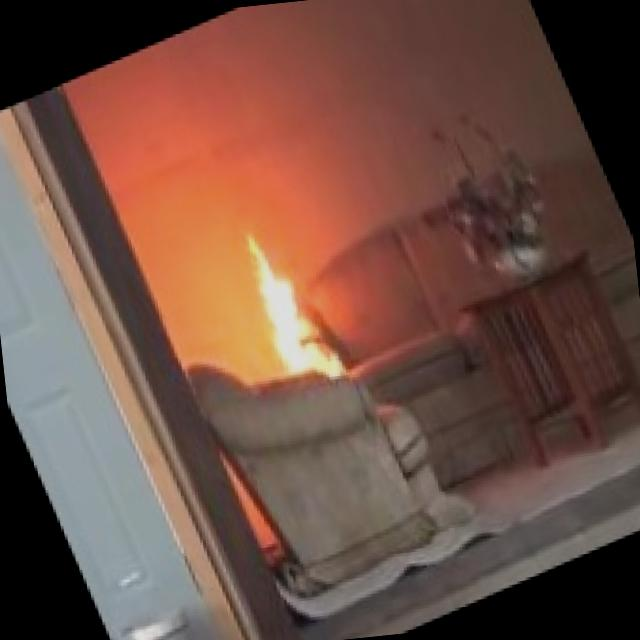fire: (170, 188, 355, 421)
